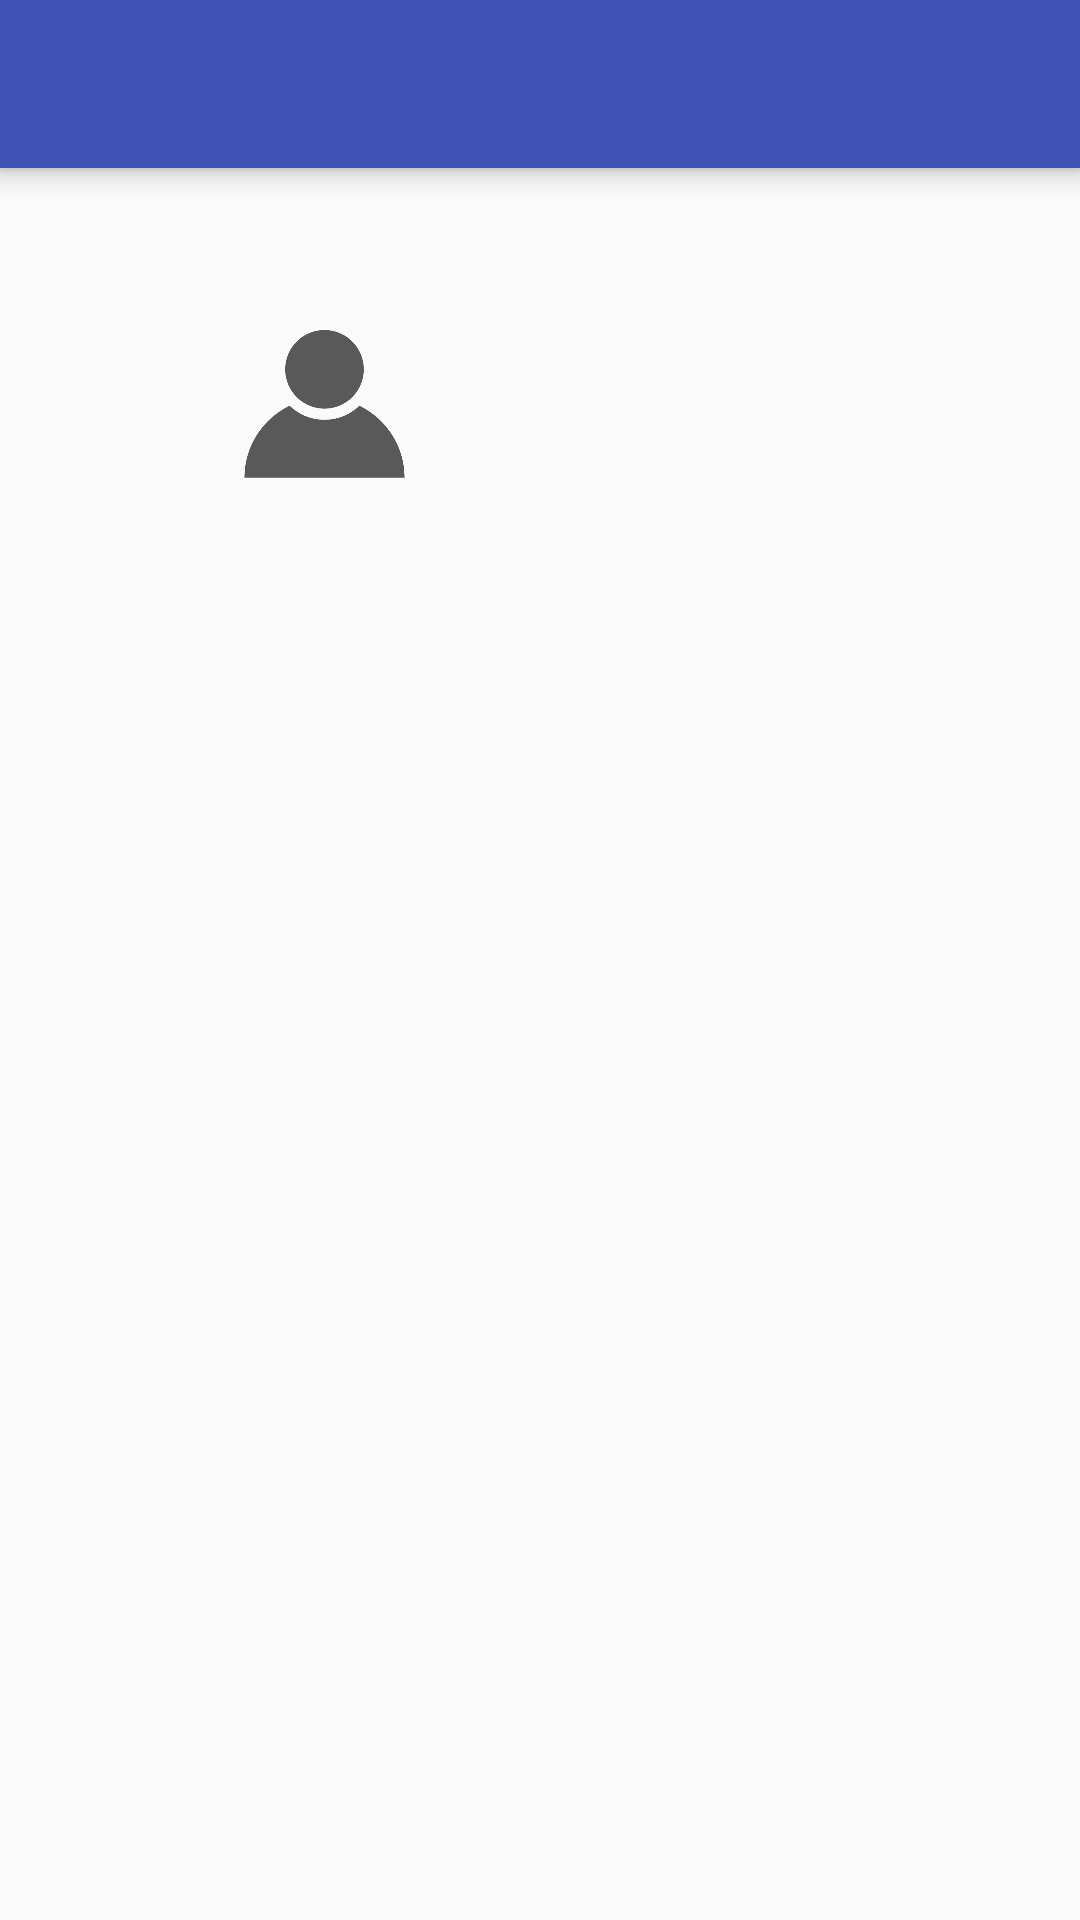

Icons on this 1080px x 1920px Android screen, each with its box as [x1, y1, x2, y2]:
userdefault: [244, 330, 405, 478]
